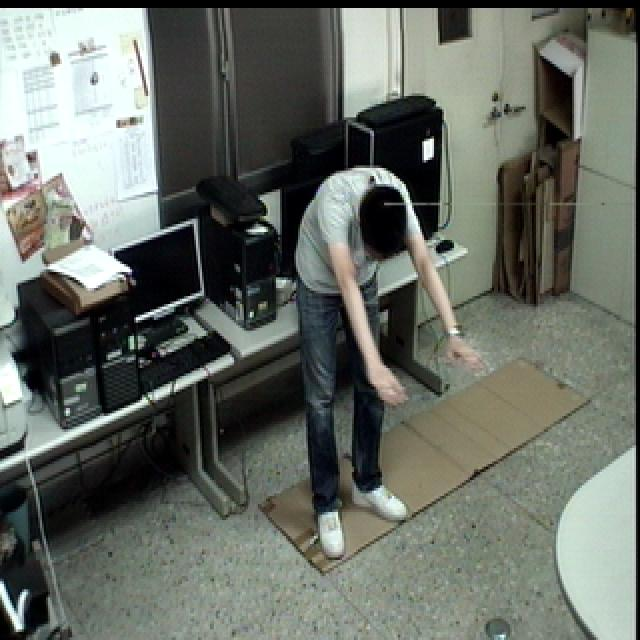bend: (291, 163, 492, 570)
